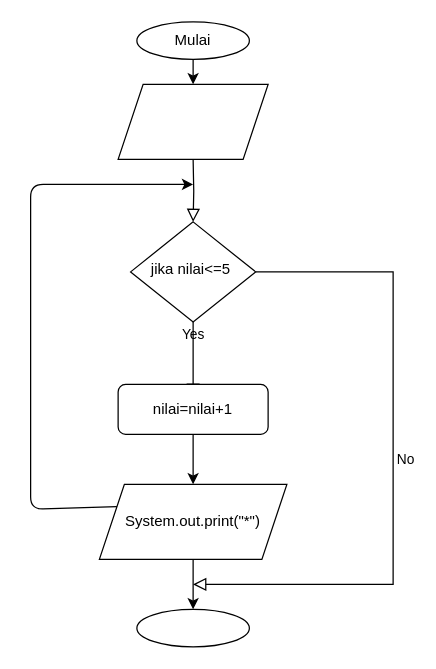
This 436x669 diagram has some shape labels left out. The centre of each missing label's shape, as x and y in pixels:
"nilai=0" goes at (192,121).
"Selesai" goes at (192,627).
